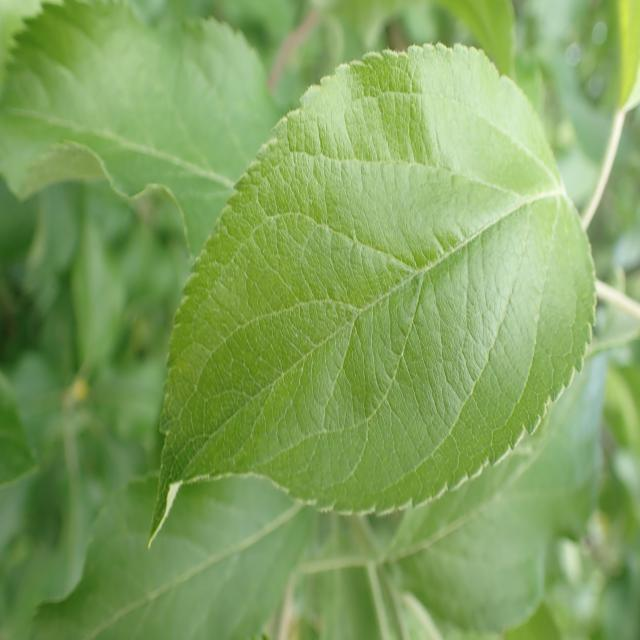healthy: (148, 41, 598, 516), (0, 0, 299, 263), (387, 352, 606, 635), (33, 473, 316, 640)
